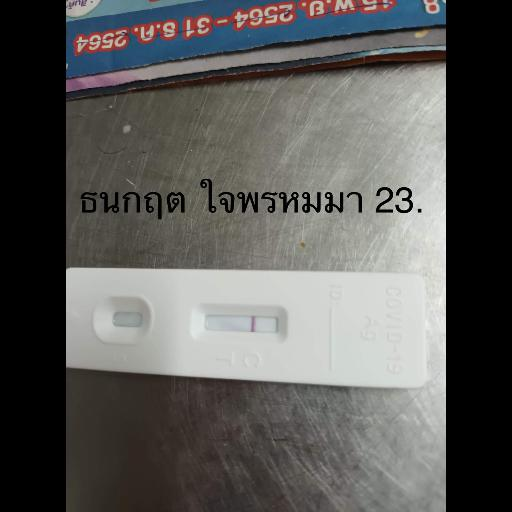Neg: (68, 266, 425, 387)
